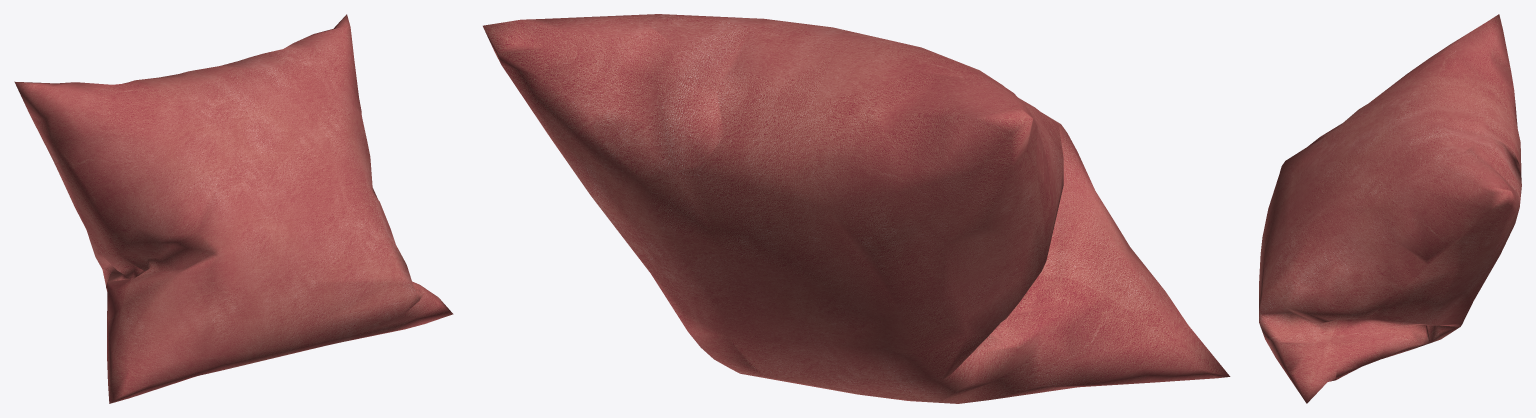
File: Pillow 2.FBX
3 renders of one model, left to right at view 1: azimuth 30°, elevation 25°; view 2: azimuth 150°, elevation 25°; view 3: azimuth 270°, elevation 25°, orthographic. The views are drawn at different scales.
Parts seen in each view (by area): view 1: pillow 2; view 2: pillow 2; view 3: pillow 2.
Part boxes in pixels (x1,y1,x2,y2): pillow 2: (14, 14, 453, 403); pillow 2: (483, 14, 1230, 403); pillow 2: (1259, 14, 1521, 403).
Size of the model in its own units: 62.19 by 40.69 by 41.8.
1 material, 1 textured.
